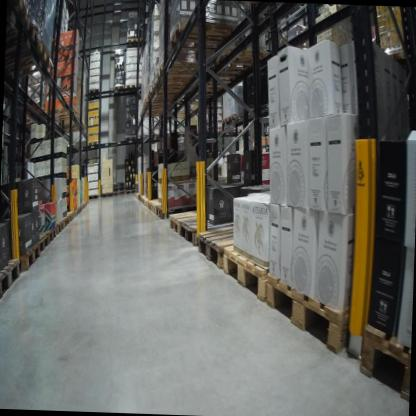pallet: (264, 271, 353, 357), (358, 321, 411, 403), (196, 217, 260, 273), (221, 237, 268, 307), (170, 17, 243, 55), (4, 40, 53, 86), (167, 206, 223, 240), (6, 17, 43, 68), (178, 210, 219, 248), (0, 256, 25, 305), (219, 48, 271, 68), (158, 61, 206, 81), (7, 0, 34, 34), (377, 41, 414, 62), (16, 241, 40, 273), (151, 75, 192, 93), (47, 101, 77, 123), (23, 109, 53, 131), (60, 118, 88, 135), (35, 230, 49, 253), (42, 225, 58, 245), (155, 202, 168, 223), (147, 198, 162, 213), (87, 86, 102, 101), (151, 200, 163, 216), (55, 220, 65, 235), (64, 210, 75, 223), (101, 190, 116, 199), (228, 112, 240, 123), (126, 36, 138, 46), (124, 188, 137, 197), (113, 189, 126, 198), (61, 214, 70, 227), (124, 132, 138, 140), (113, 83, 124, 92), (89, 192, 101, 200), (88, 138, 100, 146), (125, 82, 138, 89), (221, 117, 230, 126), (137, 36, 147, 44), (71, 208, 78, 219), (212, 129, 223, 136), (76, 206, 81, 216), (80, 205, 84, 212)
